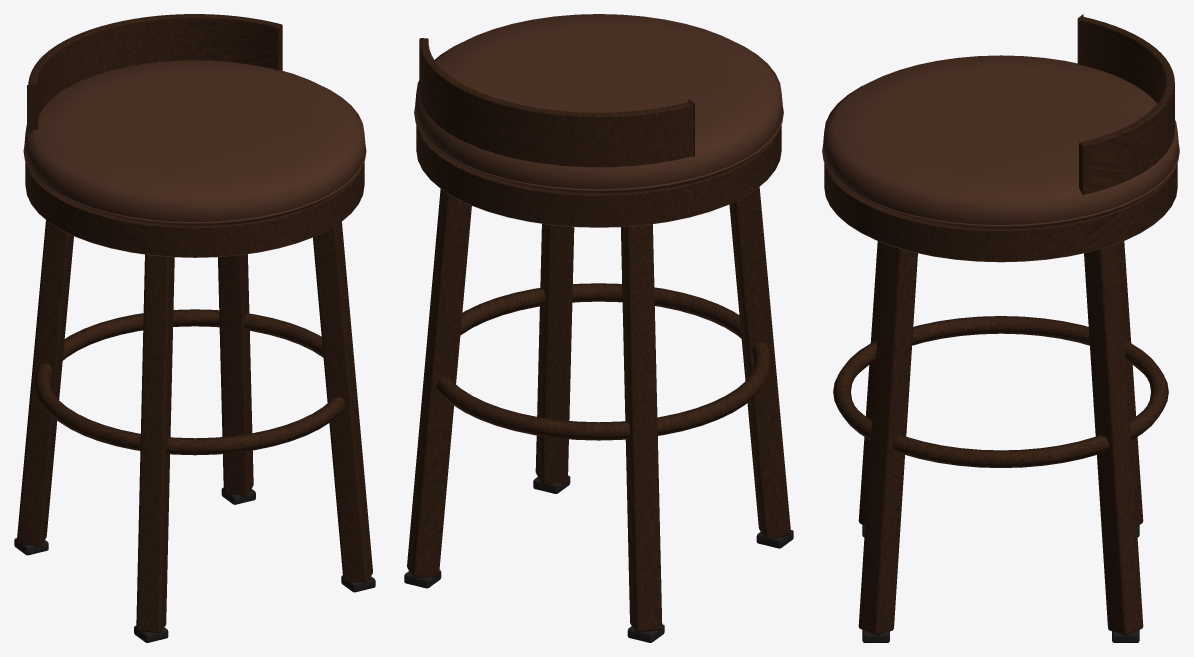
The model's file is banqueta_realista.glb.
3 renders of one model, left to right at view 1: azimuth 30°, elevation 25°; view 2: azimuth 150°, elevation 25°; view 3: azimuth 270°, elevation 25°, orthographic. The views are drawn at different scales.
Parts seen in each view (by area): view 1: Assento estofado, Encosto baixo de madeira, Perna de madeira, Estrutura circular sob o assento, Perna de madeira.002, Apoio circular, Perna de madeira.001, Perna de madeira.003, Arremate do assento; view 2: Assento estofado, Encosto baixo de madeira, Perna de madeira.001, Estrutura circular sob o assento, Perna de madeira.003, Apoio circular, Perna de madeira, Perna de madeira.002, Arremate do assento; view 3: Assento estofado, Perna de madeira.002, Perna de madeira.003, Estrutura circular sob o assento, Apoio circular, Encosto baixo de madeira, Perna de madeira, Perna de madeira.001, Arremate do assento.
Part boxes in pixels (x1,y1,x2,y2): Assento estofado: (24,60,365,226); Encosto baixo de madeira: (27,14,282,134); Perna de madeira: (136,254,174,633); Estrutura circular sob o assento: (25,162,364,257); Perna de madeira.002: (313,222,372,582); Apoio circular: (34,309,345,455); Perna de madeira.001: (17,220,73,547); Perna de madeira.003: (218,254,253,496); Arremate do assento: (23,147,366,224); Assento estofado: (414,14,783,193); Encosto baixo de madeira: (419,38,694,167); Perna de madeira.001: (621,224,662,632); Estrutura circular sob o assento: (416,125,781,227); Perna de madeira.003: (407,189,471,577); Apoio circular: (436,283,772,440); Perna de madeira: (729,187,790,539); Perna de madeira.002: (535,223,574,485); Arremate do assento: (414,108,783,191); Assento estofado: (822,55,1179,229); Perna de madeira.002: (858,243,917,635); Perna de madeira.003: (1084,243,1143,635); Estrutura circular sob o assento: (824,163,1177,261); Apoio circular: (833,316,1168,467); Encosto baixo de madeira: (1077,14,1174,194); Perna de madeira: (858,241,883,525); Perna de madeira.001: (1118,241,1143,525); Arremate do assento: (822,146,1179,227).
Size of the model in its own units: 0.4816 by 0.7513 by 0.4816.
4 materials, 1 textured.
